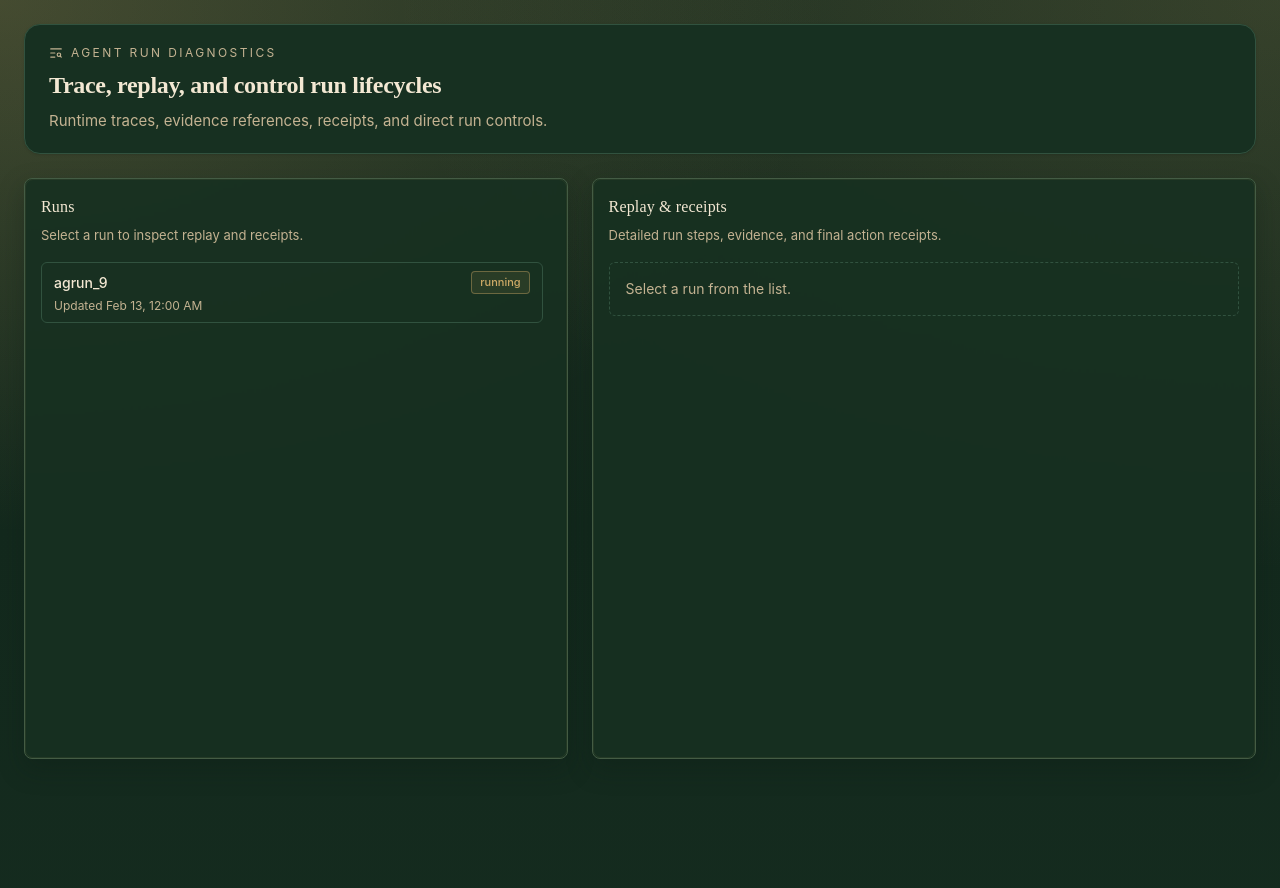
Scenario: AgentOS pages › loads run diagnostics and replay
Check: the heading "Trace, replay, and control run lifecycles" is shown, box [49,72,441,98]
Step 1. Click the button "agrun_9 running Updated Feb 13, 12:00 AM" → (81, 282), box [41,262,543,323]
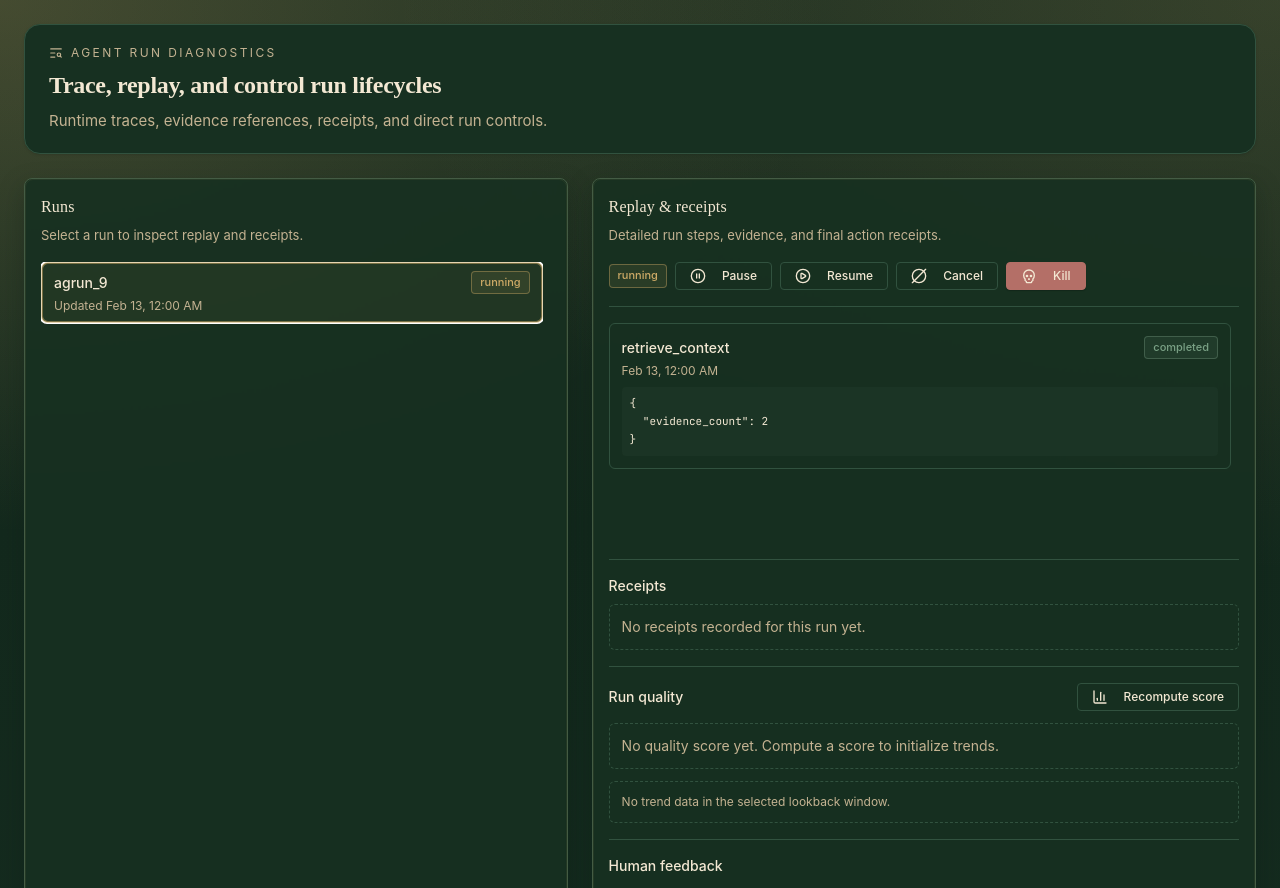
Check: the text "retrieve_context" is shown, box [622,338,730,358]
